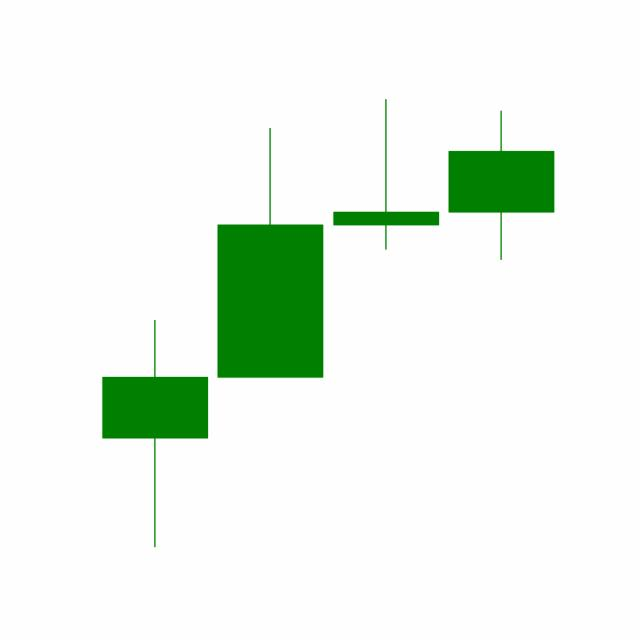Spinning Top: (328, 97, 444, 252)
